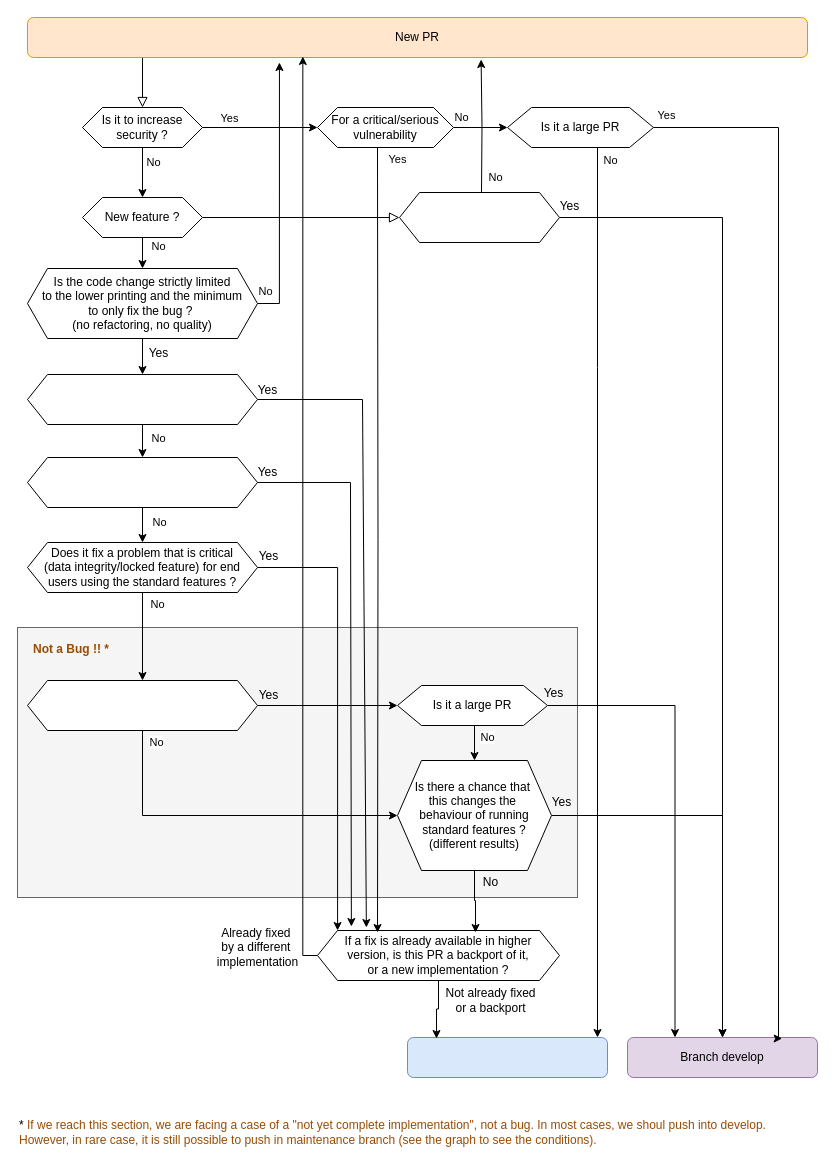
Image size: 835x1170. Some labels were removed from this diagram. Here are the shapes that lost their labels. From the top down, the box of each, then its label:
(398, 192, 560, 242): Is the code change contains one and only one related features ?
(26, 374, 258, 424): Does it fix a feature that has worked in past ?
(26, 456, 258, 508): Does it fix a feature that was announced as "ready" in the ChangeLog ?
(26, 680, 258, 730): Is it a change required by an experimental option or external module need ?
(406, 1036, 608, 1078): Maintenance branch
